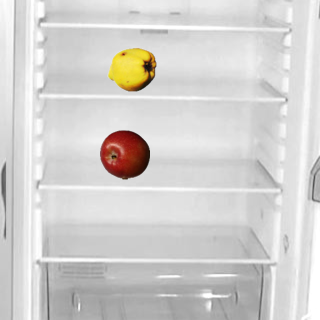Apple Braeburn: (99, 129, 149, 179)
Quince: (106, 44, 156, 94)
